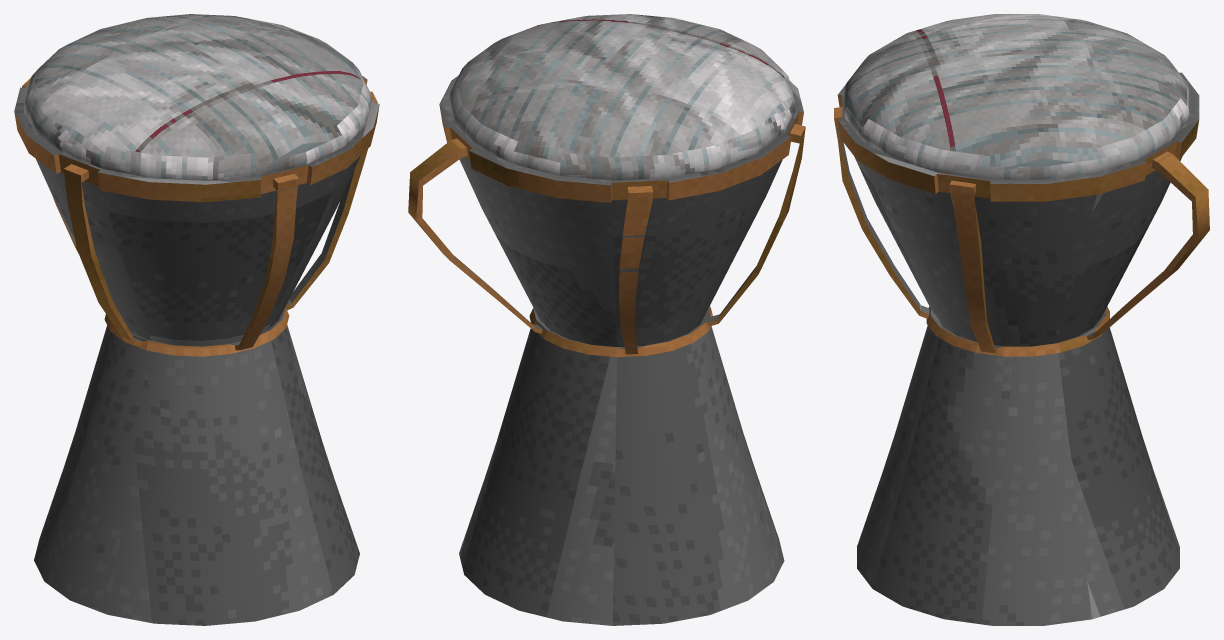
Rendered from Bongo.fbx.
3 views of the same model, side by side, from view 1: azimuth 30°, elevation 25°; view 2: azimuth 150°, elevation 25°; view 3: azimuth 270°, elevation 25° (orthographic).
Visible parts, largest first — view 1: bongo; view 2: bongo; view 3: bongo.
Part boxes in pixels (bbox=[...]): bongo: bbox=[14, 14, 379, 625]; bongo: bbox=[408, 14, 805, 625]; bongo: bbox=[834, 14, 1209, 625].
Size of the model in its own units: 0.3453 by 0.5347 by 0.3585.
3 materials, 3 textured.
